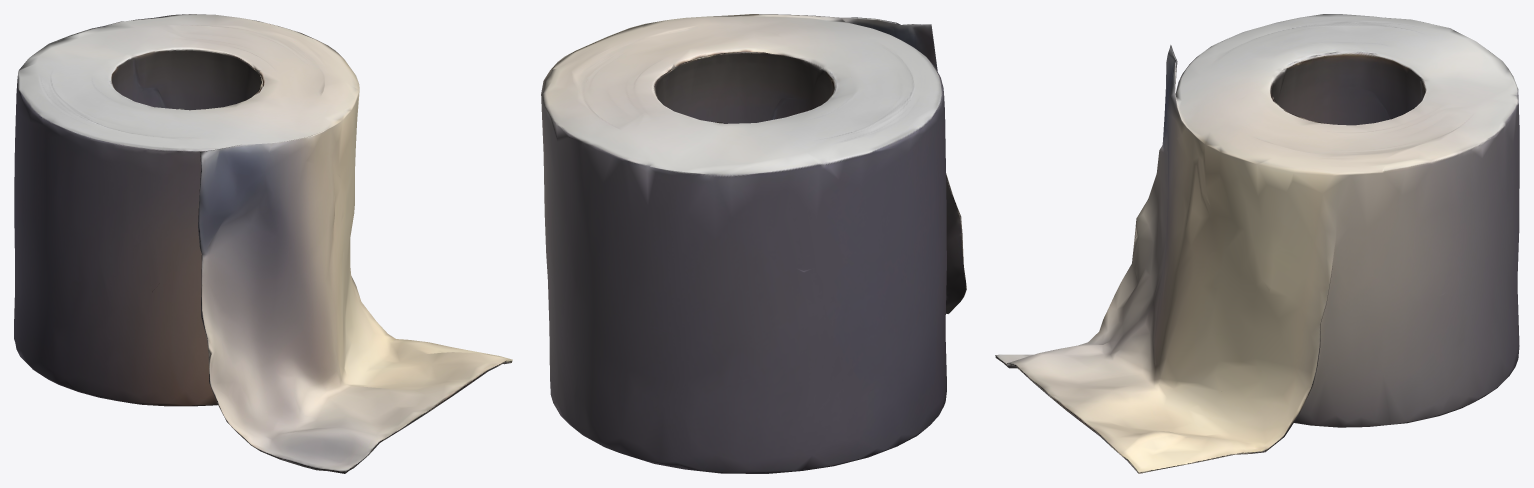
File: prop_toilet_paper_tripo_20261113.glb
The picture shows the model from 3 angles, left to right: view 1: azimuth 30°, elevation 25°; view 2: azimuth 150°, elevation 25°; view 3: azimuth 270°, elevation 25°; orthographic projection. The views are drawn at different scales.
Parts seen in each view (by area): view 1: tripo_node_3e10a337-34b4-4367-b6ff-f47425663965; view 2: tripo_node_3e10a337-34b4-4367-b6ff-f47425663965; view 3: tripo_node_3e10a337-34b4-4367-b6ff-f47425663965.
Part boxes in pixels (bbox=[...]): tripo_node_3e10a337-34b4-4367-b6ff-f47425663965: bbox=[14, 14, 512, 473]; tripo_node_3e10a337-34b4-4367-b6ff-f47425663965: bbox=[541, 14, 966, 473]; tripo_node_3e10a337-34b4-4367-b6ff-f47425663965: bbox=[995, 14, 1519, 473].
Size of the model in its own units: 0.8561 by 0.6107 by 1.
1 material, 1 textured.
